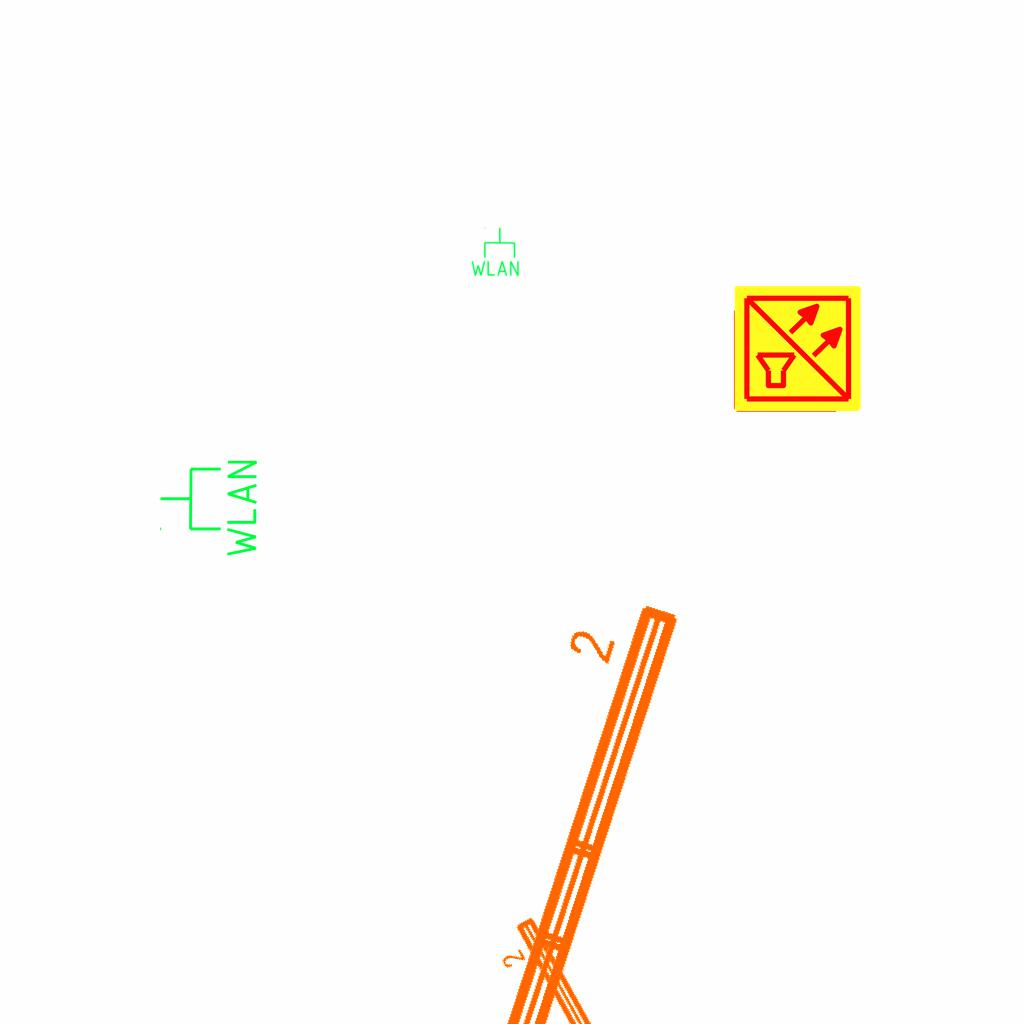Ambulanz_Pendelleuchte_LED: (347, 576, 693, 1024), (486, 910, 723, 1024)
OKW_Multisensormelder_(Kombination_optischer_Rauch-Kahlenmonoxid_Waerme-Melder): (732, 283, 864, 415)
WLAN: (157, 456, 261, 561), (469, 226, 521, 278)
